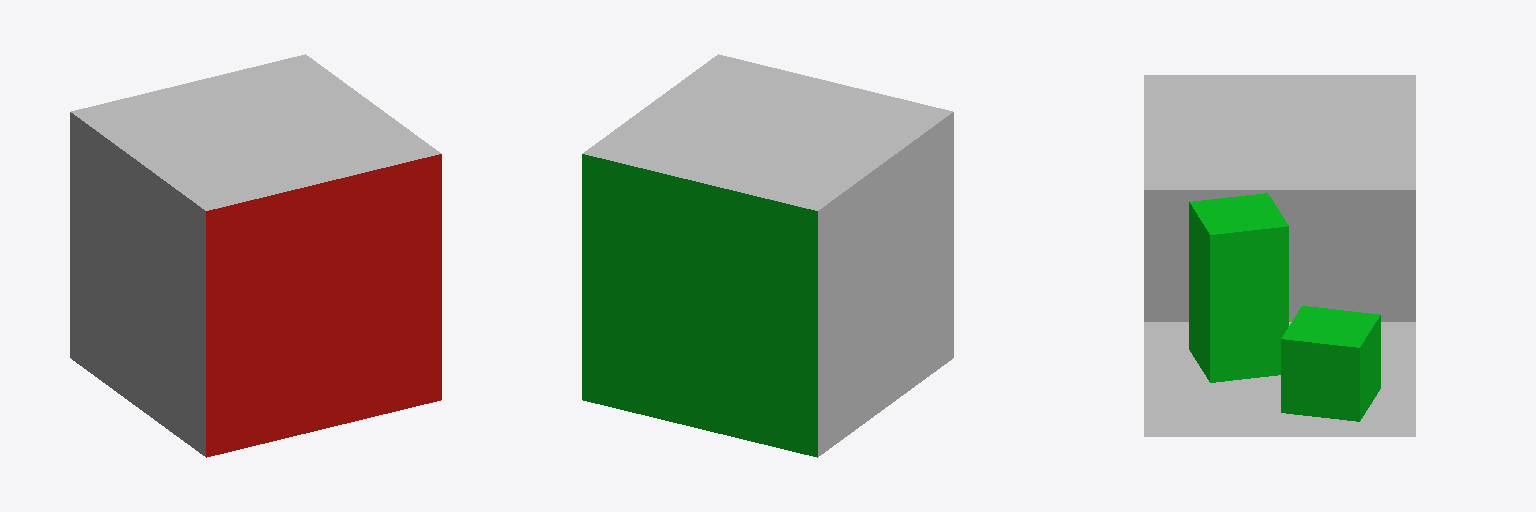
Rendered from cornell-box.obj.
3 renders of one model, left to right at view 1: azimuth 30°, elevation 25°; view 2: azimuth 150°, elevation 25°; view 3: azimuth 270°, elevation 25°, orthographic.
Parts seen in each view (by area): view 1: base; view 2: base; view 3: base, cube.002, cube.001.
Boxes of the visible parts, box(x1,y1,x2,y2) form: base: box(70, 54, 441, 457); base: box(582, 54, 953, 457); base: box(1144, 75, 1415, 436); cube.002: box(1189, 193, 1288, 382); cube.001: box(1281, 306, 1380, 421).
Size of the model in its own units: 4 by 4 by 4.